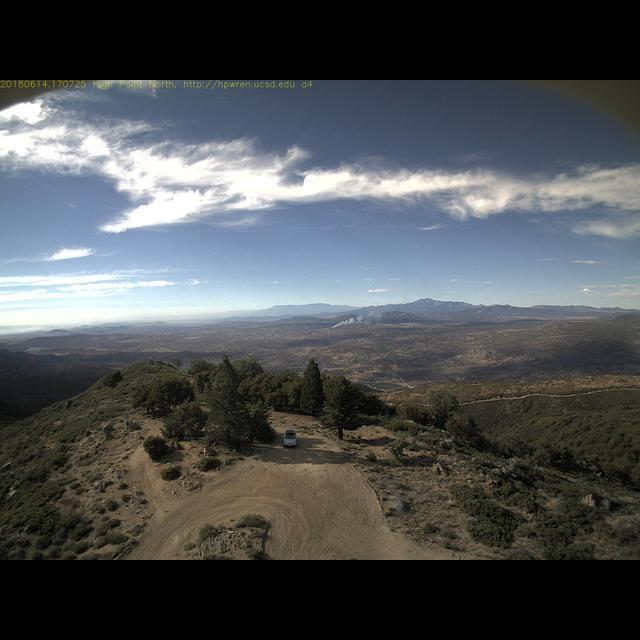Smoke: (325, 302, 419, 332)
